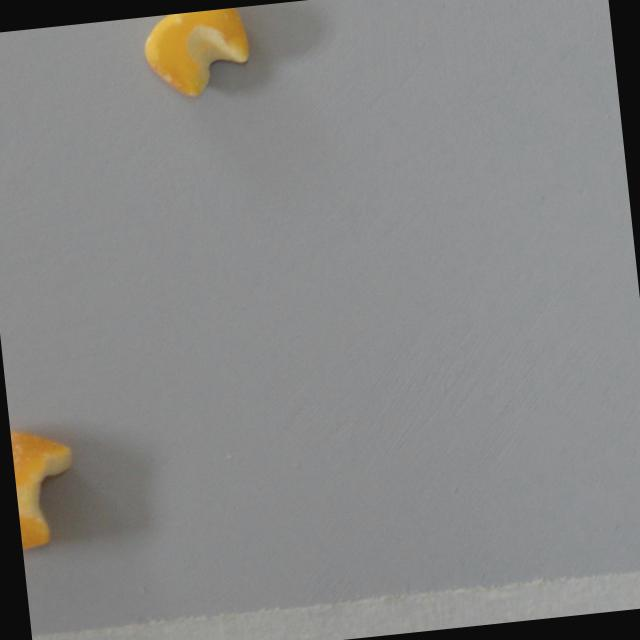no_canjicado: (138, 6, 255, 104)
pelicula: (9, 418, 84, 551)
